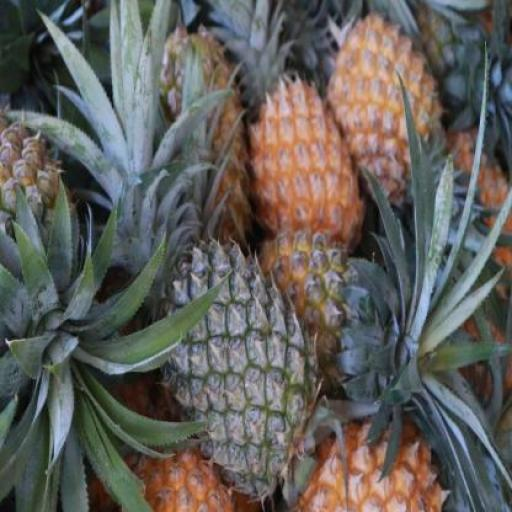------------------------------: (0, 106, 81, 330)
Pineapple - v8 v1: (327, 14, 440, 220), (249, 70, 364, 252)
